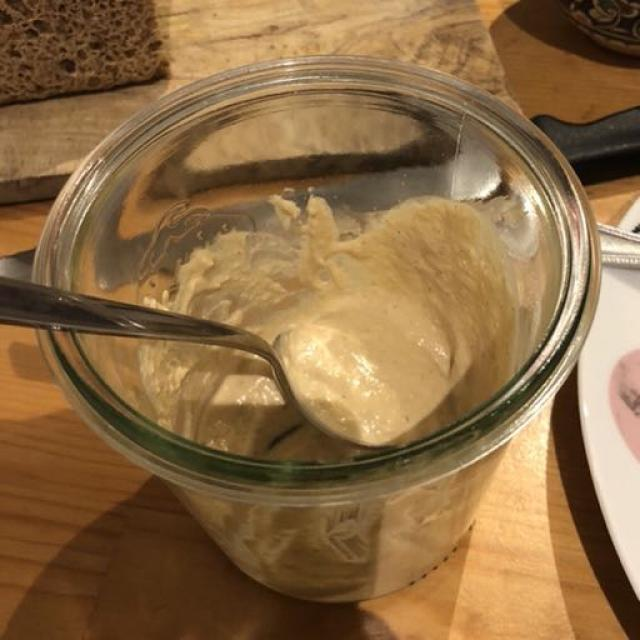hummus: (143, 183, 518, 437)
